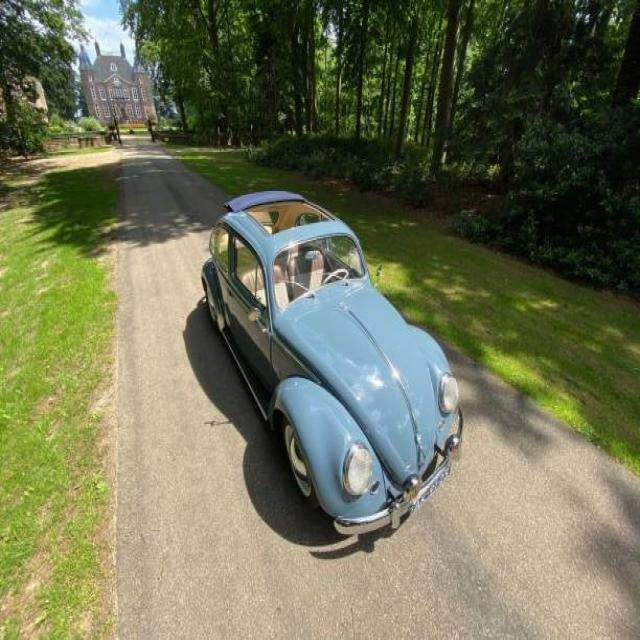car: (196, 193, 468, 528)
